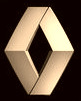Renault: (3, 3, 79, 99)
